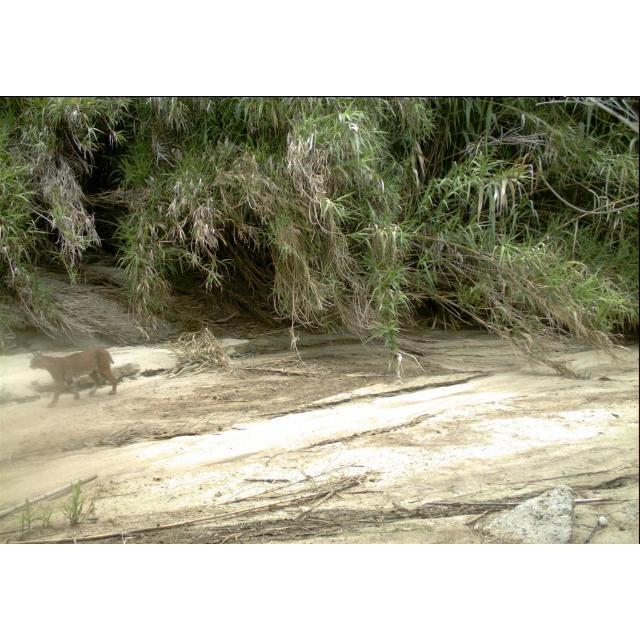animals: (25, 342, 123, 412)
